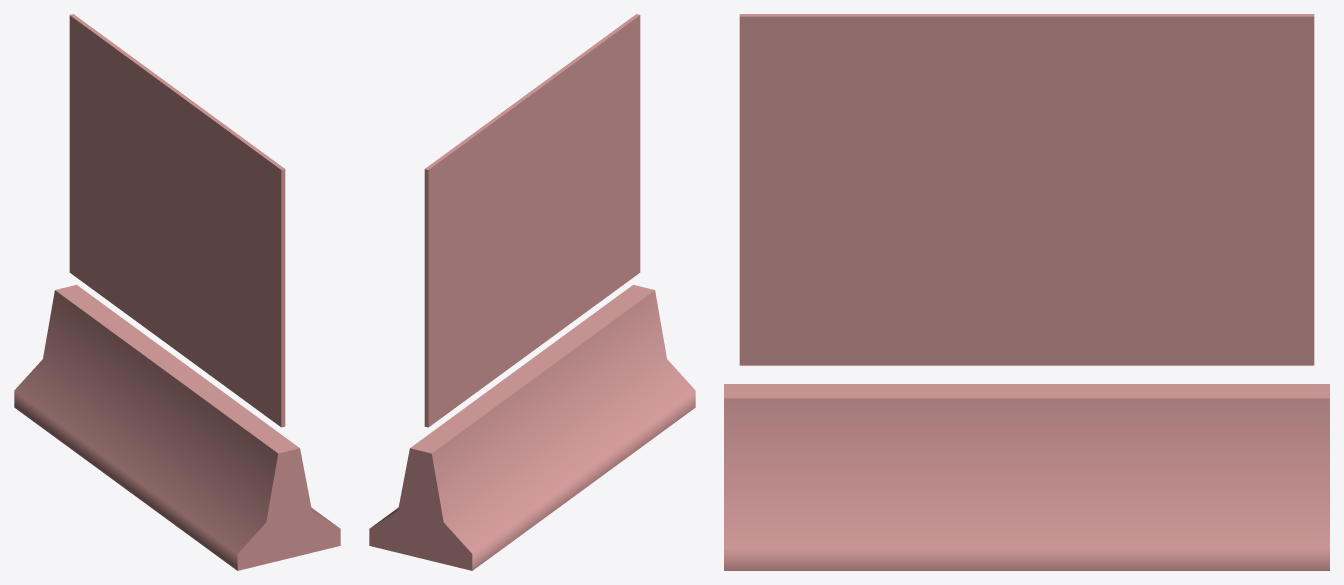
The model's file is Fence_A_A_COL.fbx.
3 views of the same model, side by side, from view 1: azimuth 30°, elevation 25°; view 2: azimuth 150°, elevation 25°; view 3: azimuth 270°, elevation 25° (orthographic). The views are drawn at different scales.
Parts seen in each view (by area): view 1: Fence_A_A_COL; view 2: Fence_A_A_COL; view 3: Fence_A_A_COL.
Boxes of the visible parts, left/top/right/bottom form: Fence_A_A_COL: left=14, top=14, right=340, bottom=570; Fence_A_A_COL: left=369, top=14, right=695, bottom=570; Fence_A_A_COL: left=724, top=14, right=1329, bottom=570.
Size of the model in its own units: 80 by 285 by 300.
